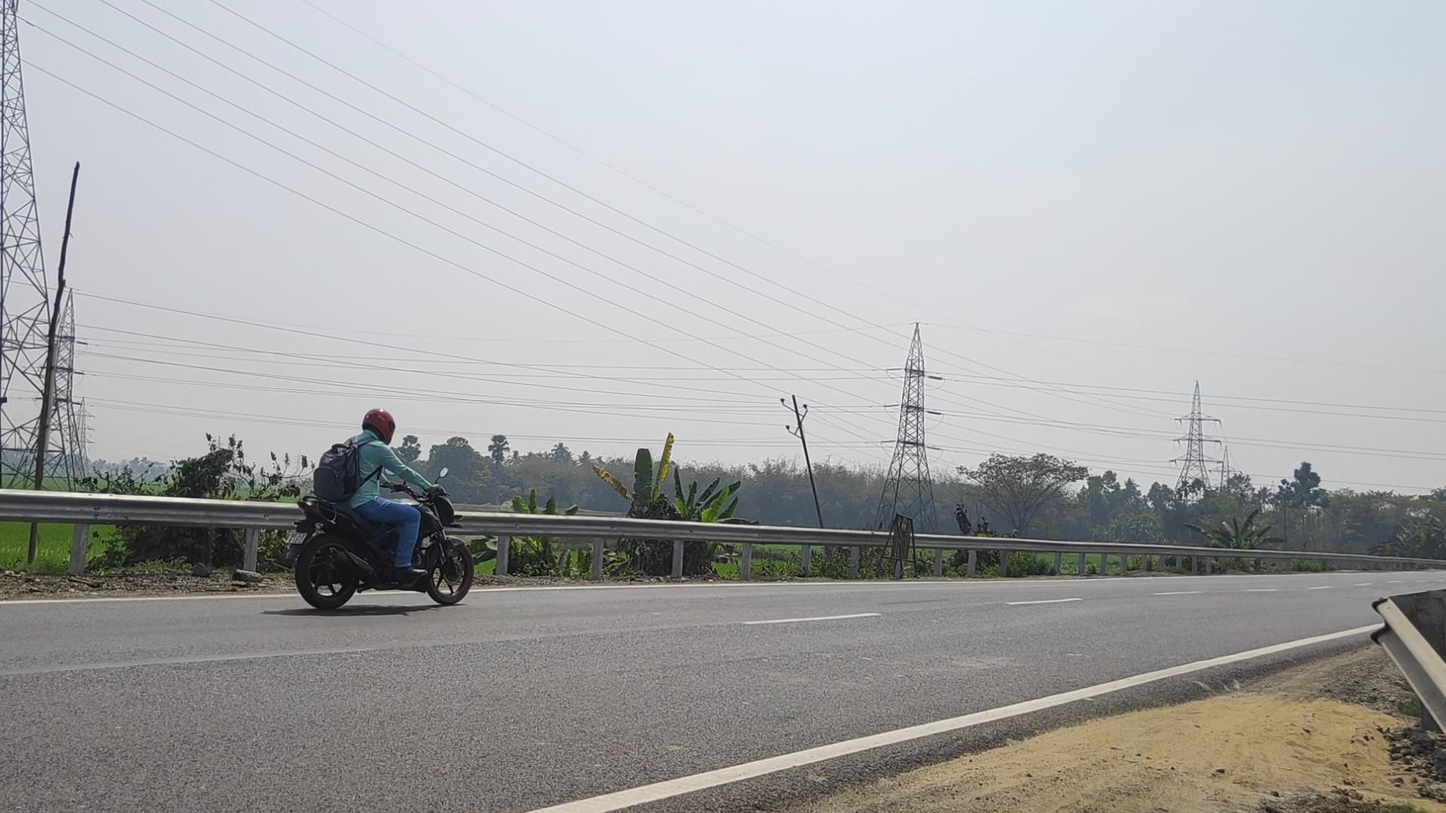bike: (288, 407, 474, 611)
